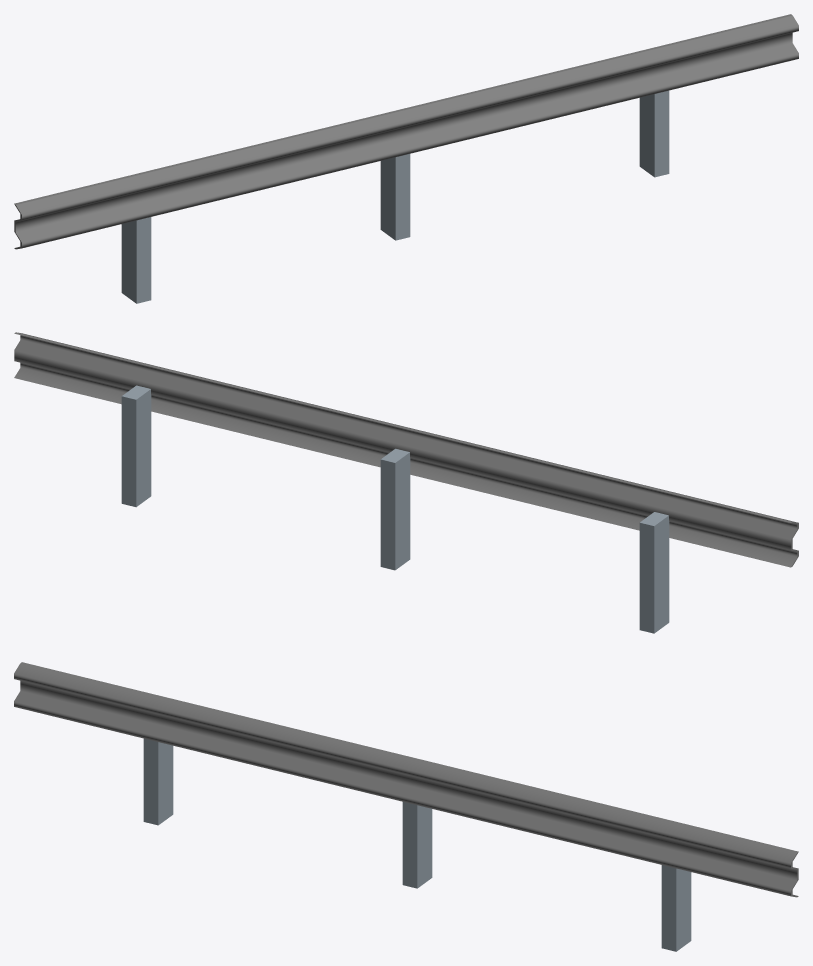
Rendered from GuardRail_Middle.fbx.
3 renders of one model, top to bottom at view 1: azimuth 30°, elevation 25°; view 2: azimuth 150°, elevation 25°; view 3: azimuth 330°, elevation 25°, orthographic.
Parts seen in each view (by area): view 1: longrail; view 2: longrail; view 3: longrail.
Part boxes in pixels (x1,y1,x2,y2): longrail: (14,14,798,303); longrail: (14,332,798,633); longrail: (14,662,798,951).
Bounding box in the file's own units: 691 × 110 × 34.76.
